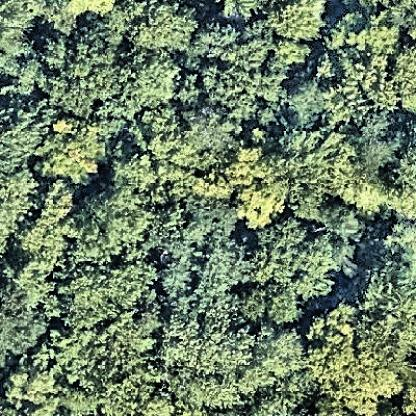tree-top: (305, 294, 412, 407), (243, 213, 350, 307), (155, 195, 238, 301), (167, 290, 257, 377), (66, 331, 156, 410), (272, 127, 353, 208), (64, 255, 153, 328), (143, 103, 231, 168), (97, 48, 179, 114), (203, 59, 285, 124), (80, 181, 152, 255), (339, 43, 413, 114), (35, 118, 112, 182), (231, 149, 288, 231), (362, 233, 413, 320), (64, 30, 121, 107), (1, 278, 53, 360), (287, 63, 349, 129), (127, 1, 201, 55), (3, 357, 69, 414), (337, 6, 408, 57), (30, 177, 86, 239), (201, 19, 264, 71), (1, 163, 42, 242), (1, 103, 50, 167), (265, 1, 333, 45), (177, 101, 235, 152), (374, 42, 416, 111), (352, 117, 396, 179), (1, 1, 42, 62), (387, 146, 416, 223), (255, 330, 297, 380), (40, 35, 73, 73), (214, 1, 272, 21), (63, 1, 123, 18)
